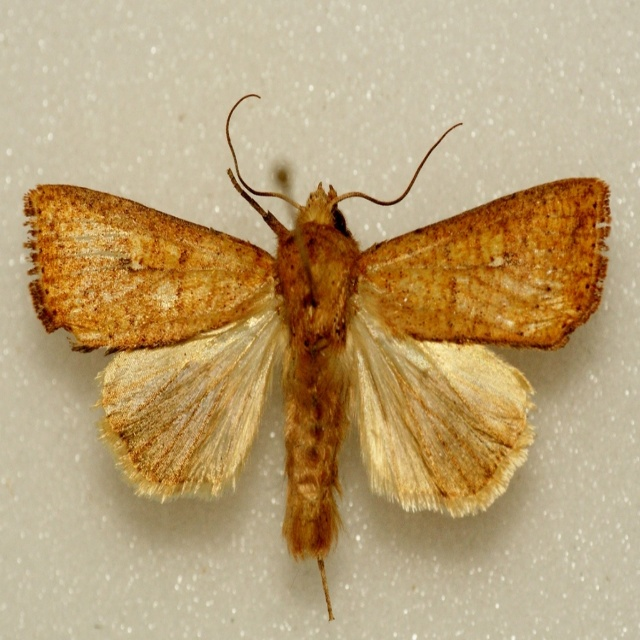Moths and butterflies: (21, 93, 613, 620)
